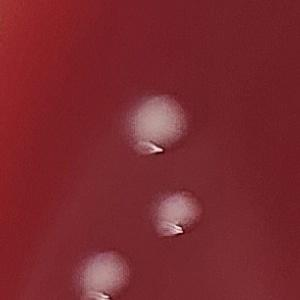colony: (116, 88, 198, 159), (146, 184, 209, 243), (70, 247, 138, 300)
